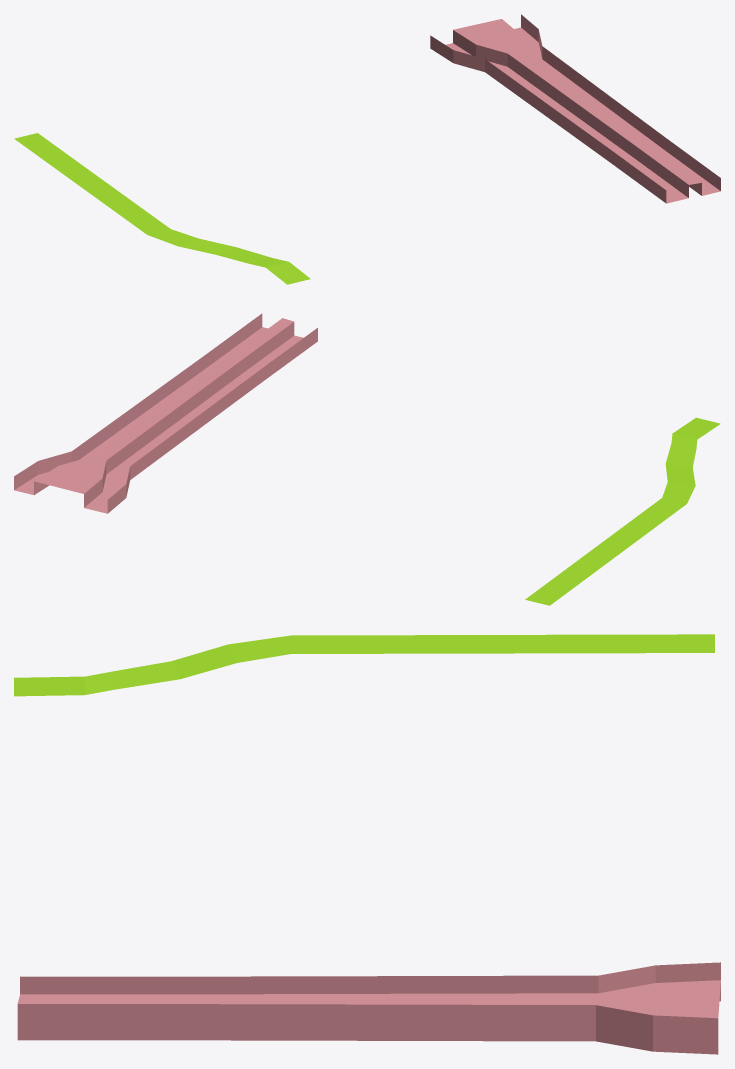
Rendered from Street.fbx.
3 renders of one model, top to bottom at view 1: azimuth 30°, elevation 25°; view 2: azimuth 150°, elevation 25°; view 3: azimuth 270°, elevation 25°, orthographic. The views are drawn at different scales.
Parts seen in each view (by area): view 1: Ground; view 2: Ground; view 3: Ground.
Boxes of the visible parts, x1,y1,x2,y2 form: Ground: [14, 14, 720, 284]; Ground: [14, 313, 720, 605]; Ground: [14, 634, 720, 1054].
Size of the model in its own units: 36565 by 1008 by 27409.
